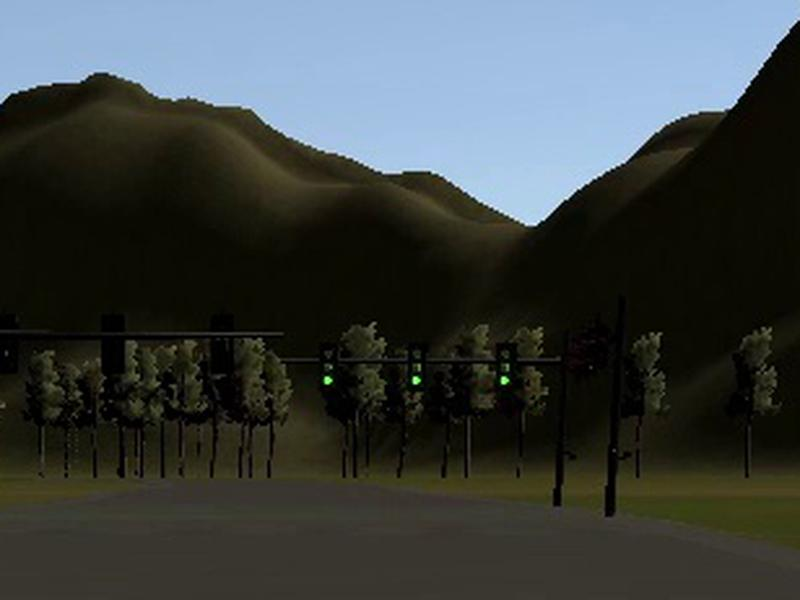Green: (495, 344, 516, 390), (319, 344, 339, 389), (407, 342, 424, 392)
